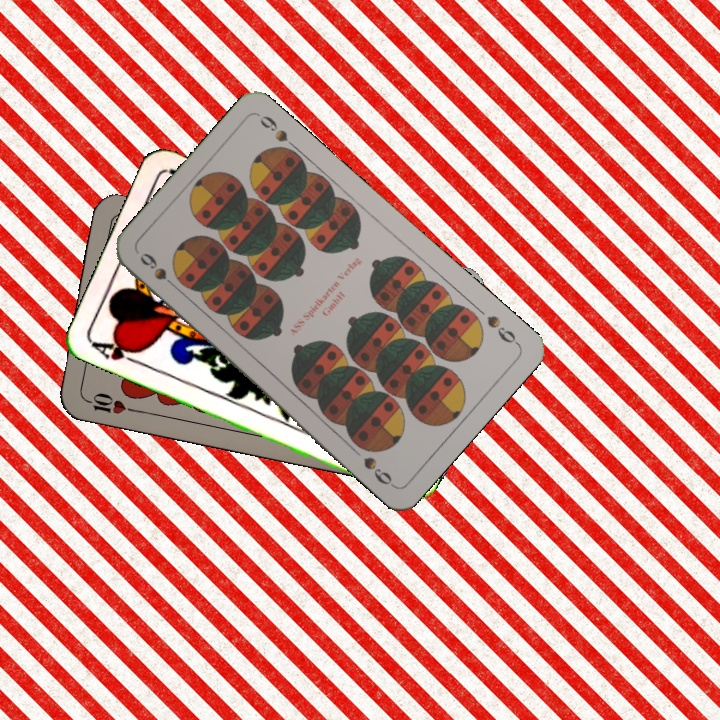H10: (80, 388, 138, 417)
HA: (88, 335, 146, 368)
S9: (135, 248, 183, 294), (482, 311, 522, 348)
